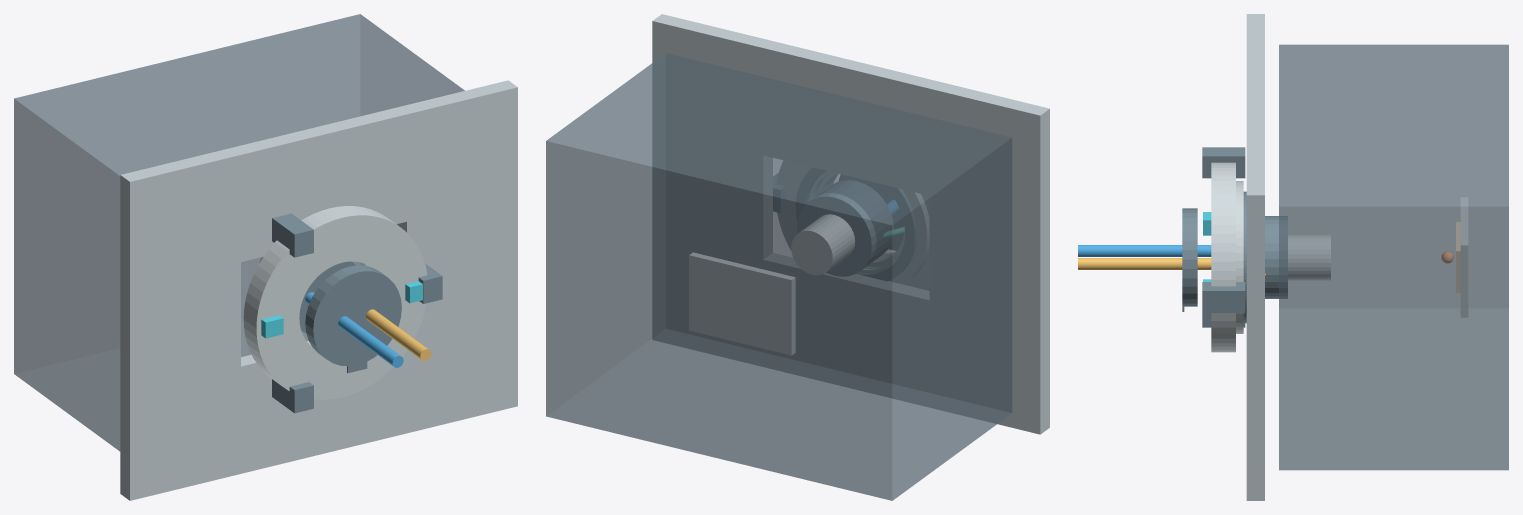
Rendered from DOCK-MIST-port.glb.
3 renders of one model, left to right at view 1: azimuth 30°, elevation 25°; view 2: azimuth 150°, elevation 25°; view 3: azimuth 270°, elevation 25°, orthographic. The views are drawn at different scales.
Visible parts, largest first — view 1: panel, bay, head, dark, water, gas, sensor; view 2: bay, panel, head, dark; view 3: bay, panel, head, dark, water, gas.
Boxes of the visible parts, x1,y1,x2,y2 form: panel: (120,80,517,500); bay: (14,14,464,451); head: (243,206,427,399); dark: (272,213,442,413); water: (305,292,403,367); gas: (366,309,431,360); sensor: (261,281,422,338); bay: (546,53,1012,500); panel: (652,14,1049,434); head: (689,161,929,355); dark: (773,168,929,290); bay: (1279,44,1508,470); panel: (1246,14,1264,500); head: (1211,162,1468,352); dark: (1182,147,1287,327); water: (1078,245,1211,256); gas: (1078,258,1211,269).
Bounding box in the file's own units: 0.28 × 0.22 × 0.281.
